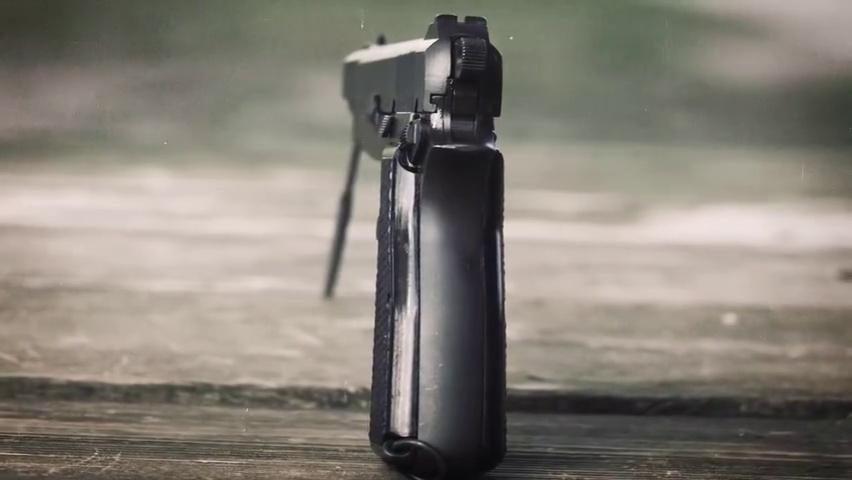gun: (313, 5, 519, 474)
